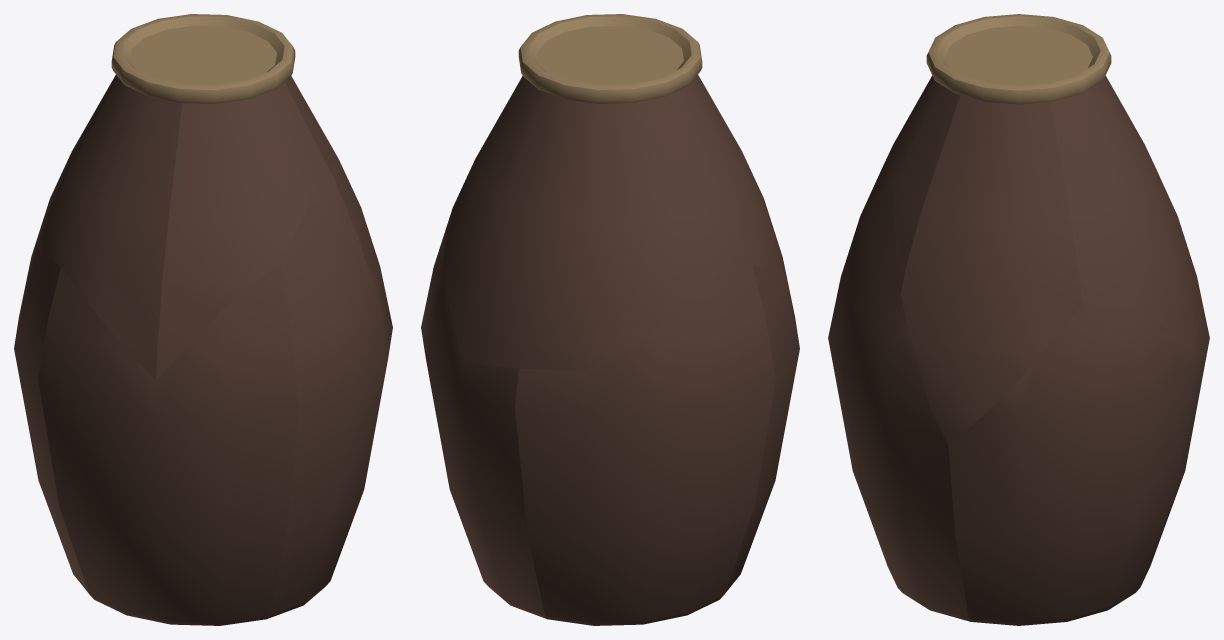
The model's file is porceclainJar_broken.fbx.
3 views of the same model, side by side, from view 1: azimuth 30°, elevation 25°; view 2: azimuth 150°, elevation 25°; view 3: azimuth 270°, elevation 25° (orthographic).
Visible parts, largest first — view 1: porceclainjar_broken, porceclainjar_broken.001, porceclainjar_broken.004, porceclainjar_broken.006, porceclainjar_broken.002, porceclainjar_broken.005, porceclainjar_broken.007; view 2: porceclainjar_broken.006, porceclainjar_broken.005, porceclainjar_broken.003, porceclainjar_broken.002, porceclainjar_broken; view 3: porceclainjar_broken.003, porceclainjar_broken.007, porceclainjar_broken.004, porceclainjar_broken.006, porceclainjar_broken.002, porceclainjar_broken.001.
Part boxes in pixels (x1=…): porceclainjar_broken: x1=38, y1=261, x2=298, y2=625; porceclainjar_broken.001: x1=155, y1=82, x2=364, y2=380; porceclainjar_broken.004: x1=267, y1=202, x2=391, y2=618; porceclainjar_broken.006: x1=36, y1=75, x2=181, y2=380; porceclainjar_broken.002: x1=111, y1=14, x2=295, y2=103; porceclainjar_broken.005: x1=14, y1=243, x2=89, y2=593; porceclainjar_broken.007: x1=285, y1=76, x2=392, y2=334; porceclainjar_broken.006: x1=442, y1=75, x2=788, y2=370; porceclainjar_broken.005: x1=515, y1=267, x2=775, y2=625; porceclainjar_broken.003: x1=421, y1=231, x2=546, y2=618; porceclainjar_broken.002: x1=518, y1=14, x2=702, y2=103; porceclainjar_broken: x1=724, y1=267, x2=799, y2=593; porceclainjar_broken.003: x1=948, y1=302, x2=1209, y2=625; porceclainjar_broken.007: x1=900, y1=95, x2=1082, y2=444; porceclainjar_broken.004: x1=828, y1=189, x2=970, y2=621; porceclainjar_broken.006: x1=1050, y1=75, x2=1202, y2=344; porceclainjar_broken.002: x1=926, y1=14, x2=1111, y2=104; porceclainjar_broken.001: x1=866, y1=75, x2=960, y2=292.
Size of the model in its own units: 0.6839 by 1.04 by 0.6839.
